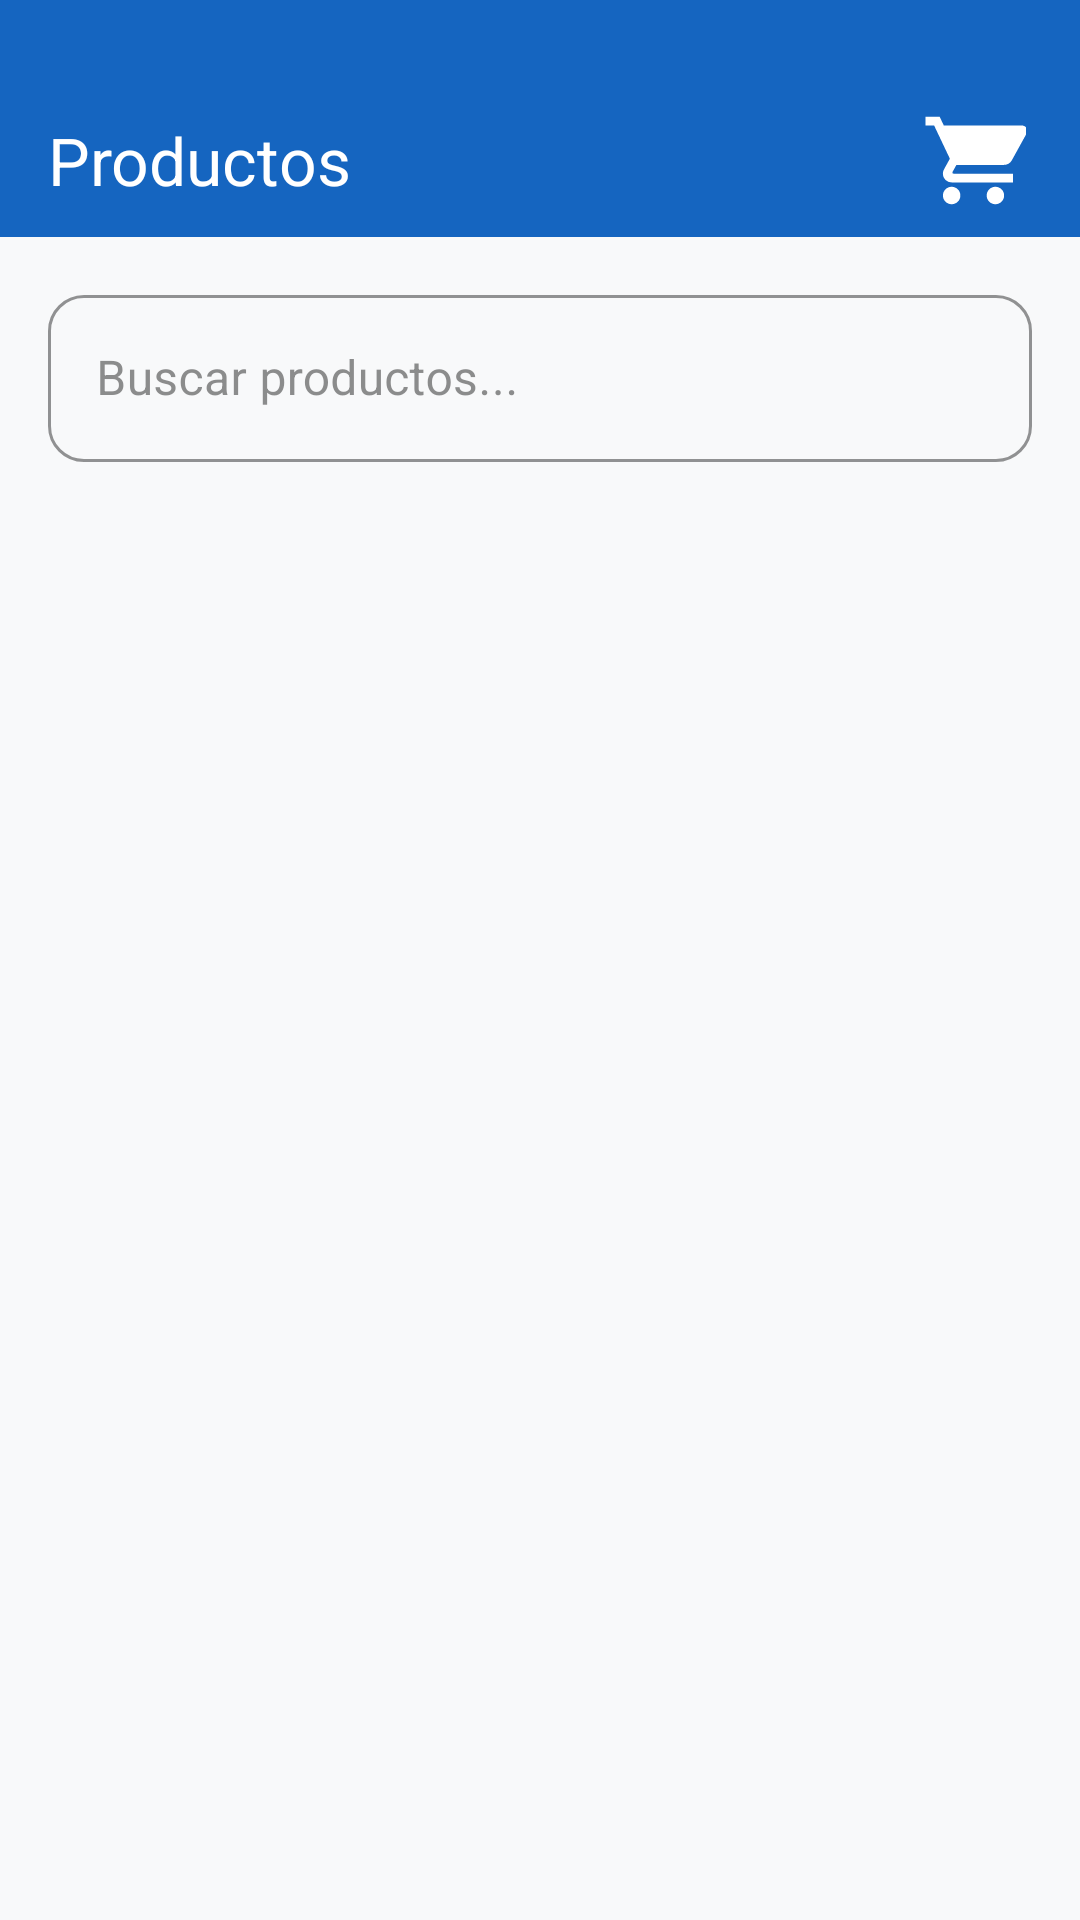

Icon bounding boxes for this 1080px×1920px phone screenshot, format [x1,y1,x2,y2]:
carrito: [925,116,1026,205]
